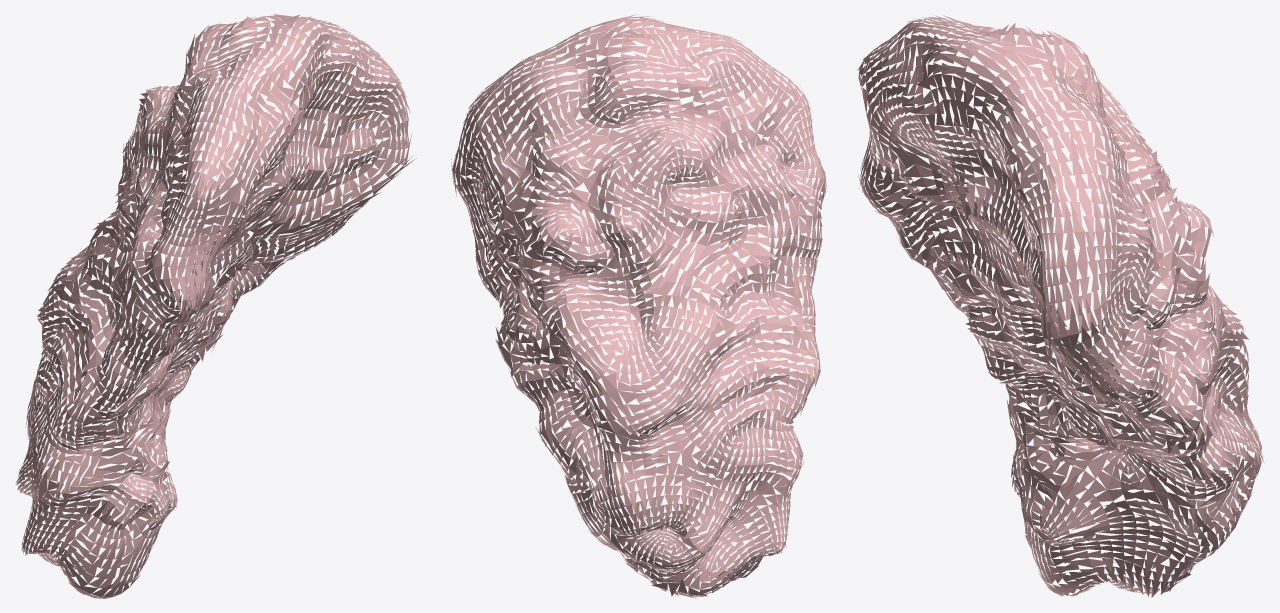
File: 3d-vh-m-palatine-tonsil-r_0.1.glb
3 views of the same model, side by side, from view 1: azimuth 30°, elevation 25°; view 2: azimuth 150°, elevation 25°; view 3: azimuth 270°, elevation 25° (orthographic). The views are drawn at different scales.
Parts seen in each view (by area): view 1: VH_M_palatine_tonsil_R; view 2: VH_M_palatine_tonsil_R; view 3: VH_M_palatine_tonsil_R.
Part boxes in pixels (x1,y1,x2,y2): VH_M_palatine_tonsil_R: (16, 14, 416, 598); VH_M_palatine_tonsil_R: (451, 14, 827, 598); VH_M_palatine_tonsil_R: (857, 15, 1264, 597).
Size of the model in its own units: 0.0171 by 0.024 by 0.0141.
